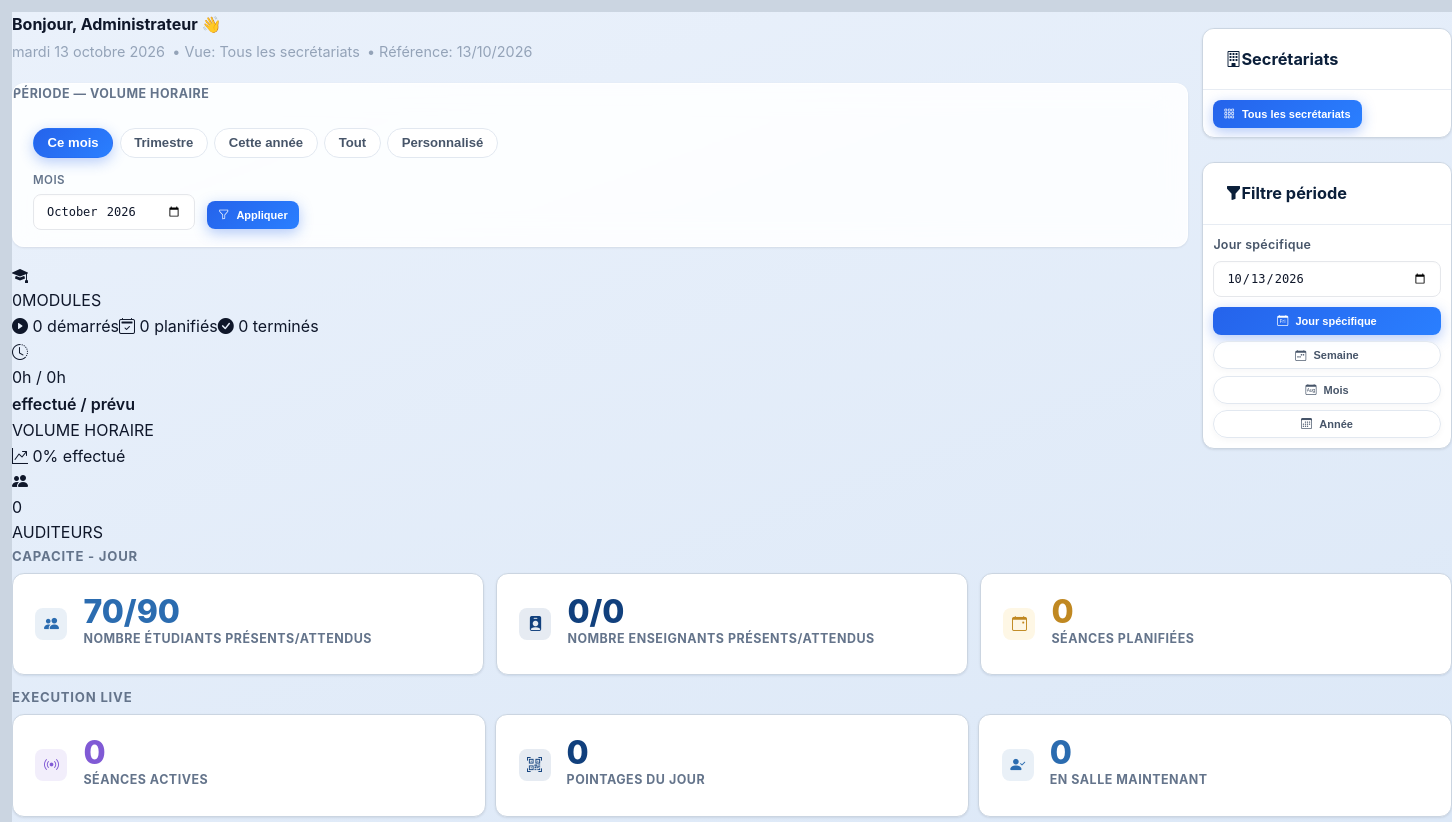
Test case: pages/Dashboard.jsx — jour de référence › une date passée épingle la liste en mode date et transmet reference_date aux stats
Type "2026-01-15" into the date field labelled "Jour spécifique" at (1327, 278), box top-left (1213, 260), bottom-right (1441, 296)
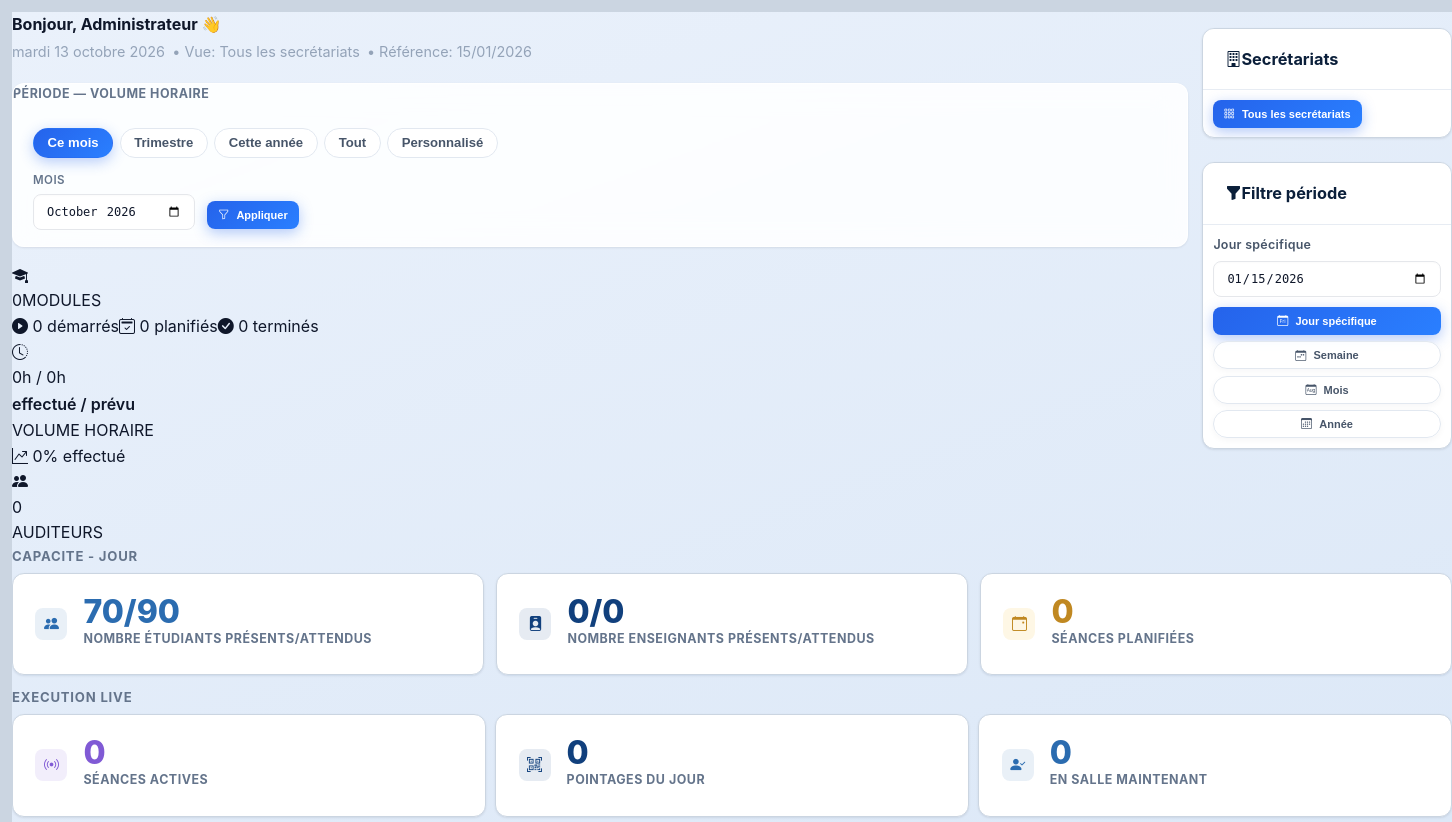
expect the text "• Référence: 15/01/2026" is shown: met, box top-left (367, 43), bottom-right (532, 60)
